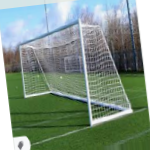goals: (15, 17, 135, 128)
